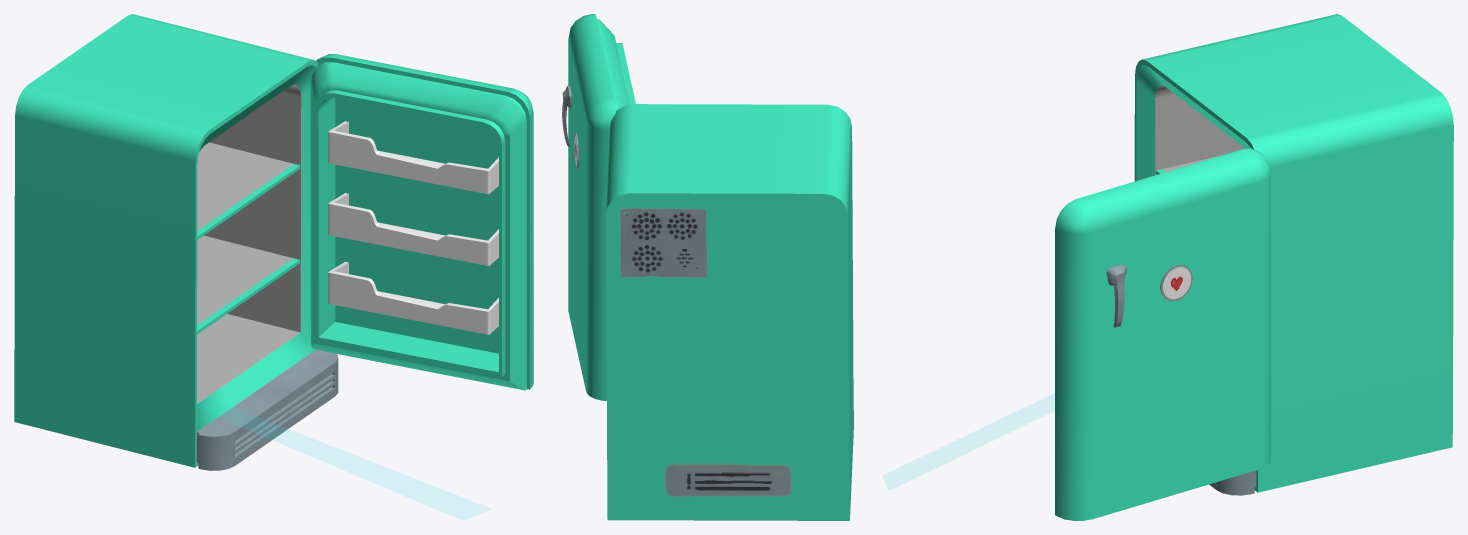
Rendered from fridge.glb.
The picture shows the model from 3 angles, left to right: view 1: azimuth 30°, elevation 25°; view 2: azimuth 150°, elevation 25°; view 3: azimuth 270°, elevation 25°; orthographic projection. The views are drawn at different scales.
Visible parts, largest first — view 1: polySurface16_Fridge_Door2_0.001, Plane.003; view 2: polySurface16_Fridge_Door2_0.001; view 3: polySurface16_Fridge_Door2_0.001, Plane.003.
Part boxes in pixels (left/top/right/bottom): polySurface16_Fridge_Door2_0.001: left=14, top=14, right=533, bottom=470; Plane.003: left=197, top=398, right=490, bottom=519; polySurface16_Fridge_Door2_0.001: left=562, top=14, right=853, bottom=520; polySurface16_Fridge_Door2_0.001: left=1055, top=14, right=1453, bottom=520; Plane.003: left=883, top=394, right=1054, bottom=489.
Bounding box in the file's own units: 3.11 × 2.46 × 3.67.
Materials: 4 (2 with a texture image).
